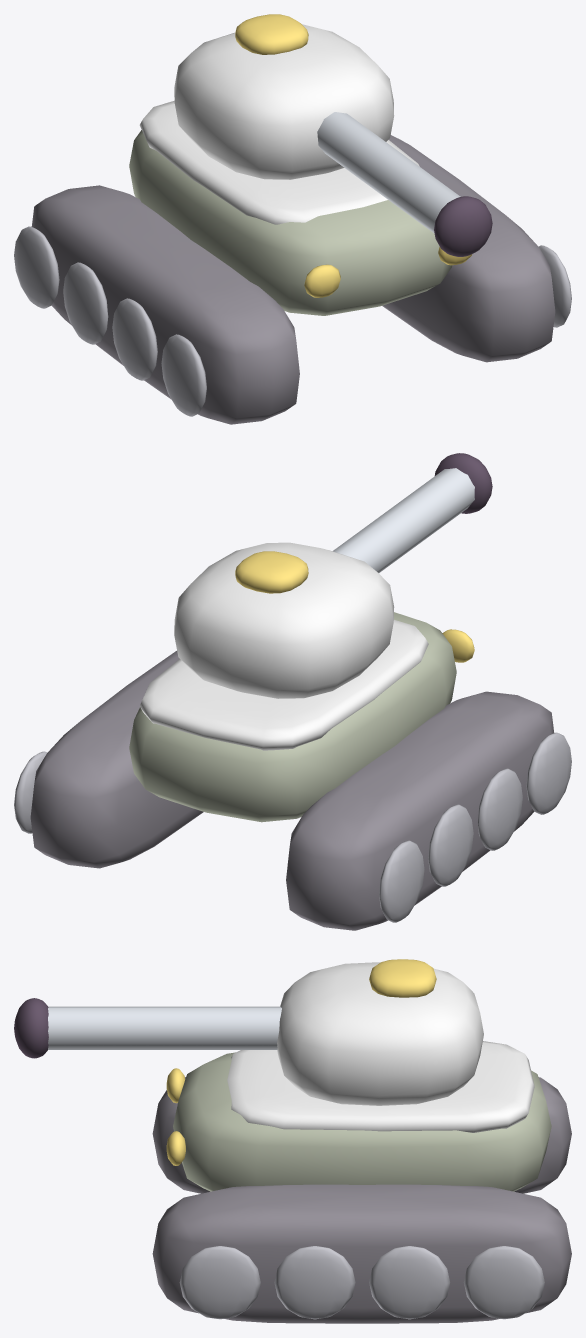
File: tank.glb
3 views of the same model, one above another, from view 1: azimuth 30°, elevation 25°; view 2: azimuth 150°, elevation 25°; view 3: azimuth 270°, elevation 25° (orthographic). The views are drawn at different scales.
Parts seen in each view (by area): view 1: Skin, Body; view 2: Skin, Body; view 3: Skin, Body.
Boxes of the visible parts, x1,y1,x2,y2 form: Skin: [14, 14, 571, 424]; Body: [139, 24, 419, 224]; Skin: [14, 453, 571, 930]; Body: [140, 542, 428, 750]; Skin: [14, 959, 571, 1323]; Body: [227, 962, 534, 1132].
Bounding box in the file's own units: 1.26 × 0.93 × 1.65.
